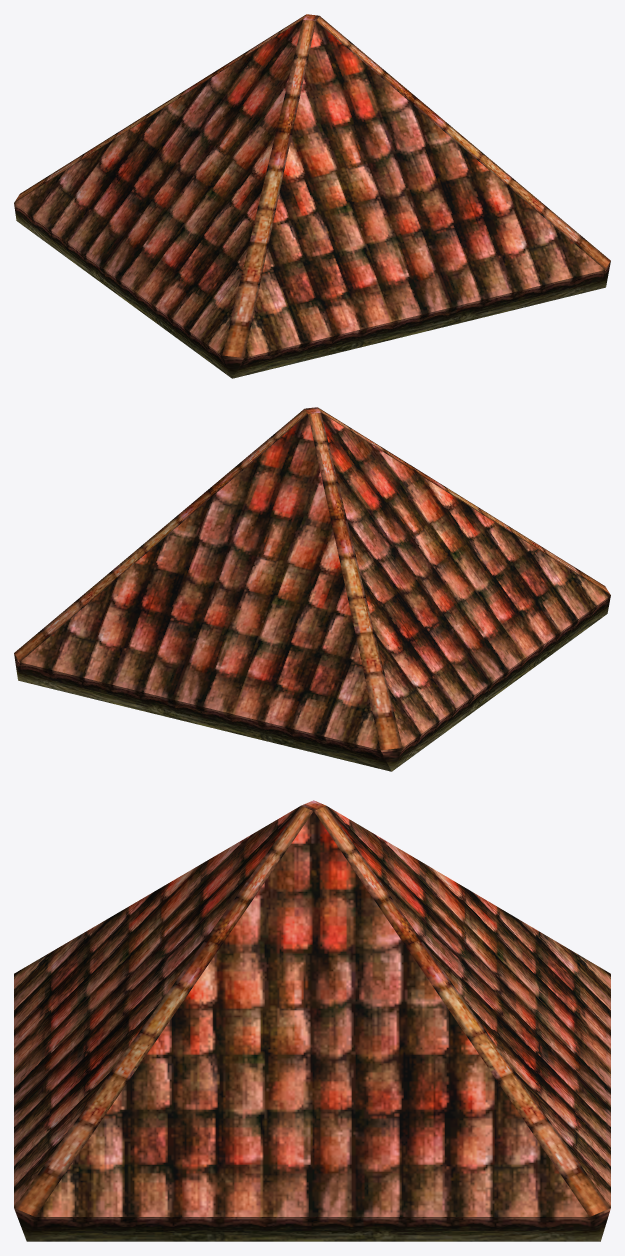
The picture shows the model from 3 angles, top to bottom: view 1: azimuth 30°, elevation 25°; view 2: azimuth 150°, elevation 25°; view 3: azimuth 270°, elevation 25°; orthographic projection. The views are drawn at different scales.
Parts seen in each view (by area): view 1: cc48; view 2: cc48; view 3: cc48.
Part boxes in pixels (<box>): cc48: <box>14,14,610,378</box>; cc48: <box>14,407,610,771</box>; cc48: <box>14,800,610,1241</box>.
Size of the model in its own units: 4.75 by 2.76 by 4.75.
Materials: 3 (3 with a texture image).
